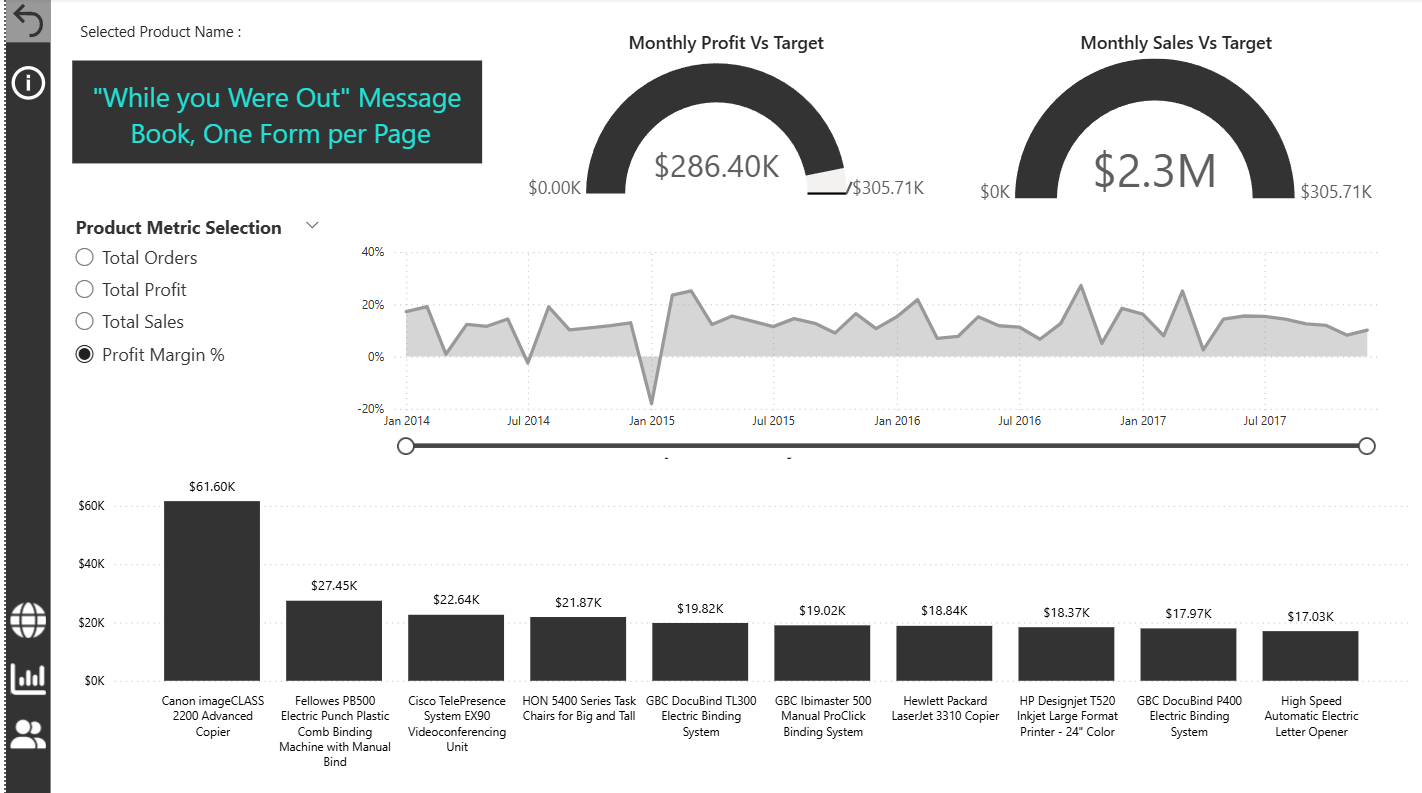

This screenshot's page, from the dashboard's own definition file:
{"tool":"powerbi","page":{"name":"Product View","canvas":[1280,720],"ordinal":2},"visuals":[{"type":"shape","box":[0,0,40.4,720.2],"z":0},{"type":"gauge","title":"Monthly Profit Vs Target","fields":{"Y":["Measure Table.Total Profit"],"TargetValue":["Measure Table.Profit Target"]},"box":[461,28.1,376.6,162.6],"z":0,"group":"g1"},{"type":"gauge","title":"Monthly Sales Vs Target","fields":{"Y":["Measure Table.Total Sales"],"TargetValue":["Measure Table.Sales Target"]},"box":[867,28.1,376.6,162.6],"z":1000,"group":"g1"},{"type":"columnChart","title":"Top 10 Product by Sales","fields":{"Category":["Superstore Data.Product Name"],"Y":["Measure Table.Total Sales"]},"box":[59.9,395,1210.6,309.4],"z":1000},{"type":"card","fields":{"Values":["Min(Superstore Data.Product Name)"]},"box":[59.9,56.3,369.3,92.9],"z":2000},{"type":"textbox","box":[62.4,15.9,182.2,31.8],"z":3000},{"type":"slicer","fields":{"Values":["Product Metric Selection.Product Metric Selection"]},"box":[50.1,190.8,245.8,157.7],"z":4000},{"type":"areaChart","fields":{"Y":["Measure Table.Profit Margin %"],"Category":["Superstore Data.Order Date.Variation.Date Hierarchy.Year","Superstore Data.Order Date.Variation.Date Hierarchy.Month"]},"box":[310.6,215.2,941.6,199.3],"z":5000},{"type":"group","id":"g1","title":"Gauge Target","box":[461,28.1,782.6,162.6],"z":6000},{"type":"actionButton","box":[0,0,40.4,40.4],"z":7000},{"type":"actionButton","box":[0,56.3,40.4,40.4],"z":8000},{"type":"actionButton","box":[0,594.3,40.4,40.4],"z":8001},{"type":"actionButton","box":[0,540.5,40.4,40.4],"z":8002},{"type":"actionButton","box":[0,657.9,40.4,6.1],"z":8003},{"type":"actionButton","box":[0,643.2,40.4,40.4],"z":8004}]}

Visuals, with their boxes on the page's 1280x720 design canvas (x1, y1, x2, y2). These are canvas units, not pixel positions in the 1422x793 screenshot, which may show the page scaled, cropped or inside an application window:
shape: rect(0, 0, 40, 720)
"Monthly Profit Vs Target" gauge: rect(461, 28, 838, 191)
"Monthly Sales Vs Target" gauge: rect(867, 28, 1244, 191)
"Top 10 Product by Sales" columnChart: rect(60, 395, 1270, 704)
card - Min(Superstore Data.Product Name): rect(60, 56, 429, 149)
textbox: rect(62, 16, 245, 48)
slicer - Product Metric Selection.Product Metric Selection: rect(50, 191, 296, 348)
areaChart - Measure Table.Profit Margin % x Superstore Data.Order Date.Variation.Date Hierarchy.Year: rect(311, 215, 1252, 414)
"Gauge Target" group: rect(461, 28, 1244, 191)
actionButton: rect(0, 0, 40, 40)
actionButton: rect(0, 56, 40, 97)
actionButton: rect(0, 594, 40, 635)
actionButton: rect(0, 540, 40, 581)
actionButton: rect(0, 658, 40, 664)
actionButton: rect(0, 643, 40, 684)
